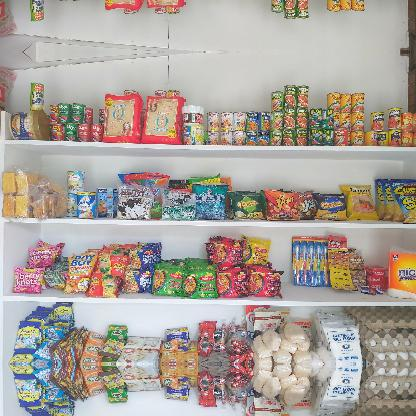Lady-s-Choice: (9, 110, 49, 140)
